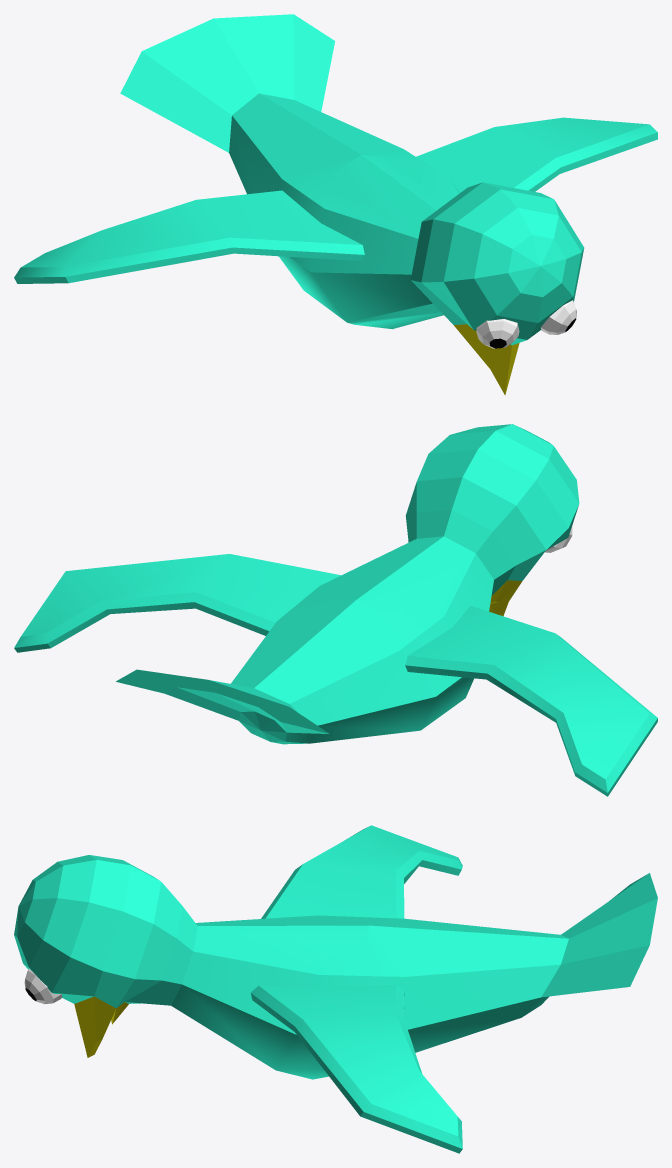
Rendered from Bird_2.fbx.
3 renders of one model, top to bottom at view 1: azimuth 30°, elevation 25°; view 2: azimuth 150°, elevation 25°; view 3: azimuth 270°, elevation 25°, orthographic. The views are drawn at different scales.
Visible parts, largest first — view 1: Bird; view 2: Bird; view 3: Bird.
Boxes of the visible parts, x1=… form: Bird: x1=14, y1=14, x2=657, y2=395; Bird: x1=14, y1=424, x2=657, y2=796; Bird: x1=14, y1=825, x2=657, y2=1153.
Bounding box in the file's own units: 4.93 × 1.74 × 4.74.
